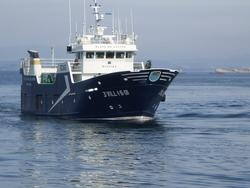otherboat: (17, 1, 182, 120)
